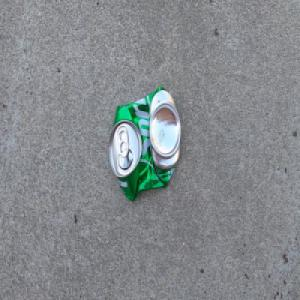SodaCan: (107, 83, 181, 203)
